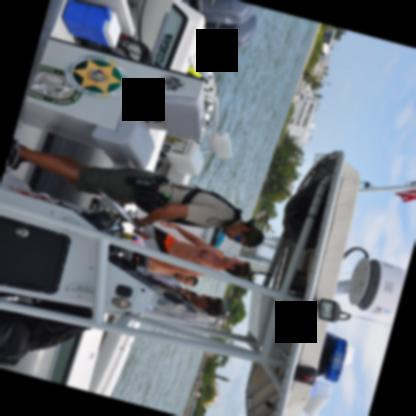suitcase: (0, 311, 30, 368)
